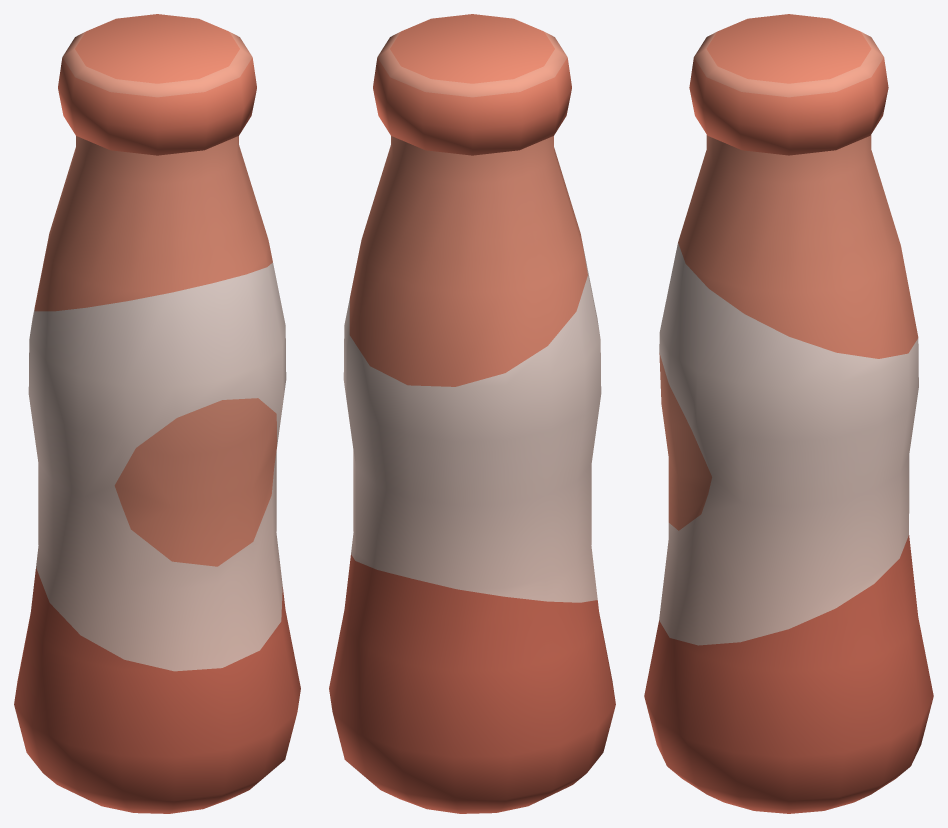
File: yogurt_004.fbx
3 views of the same model, side by side, from view 1: azimuth 30°, elevation 25°; view 2: azimuth 150°, elevation 25°; view 3: azimuth 270°, elevation 25° (orthographic).
Visible parts, largest first — view 1: yogurt_004; view 2: yogurt_004; view 3: yogurt_004.
Part boxes in pixels (x1,y1,x2,y2): yogurt_004: (14, 14, 300, 813); yogurt_004: (329, 14, 615, 813); yogurt_004: (644, 14, 933, 813).
Size of the model in its own units: 5.43 by 5.43 by 15.03.
